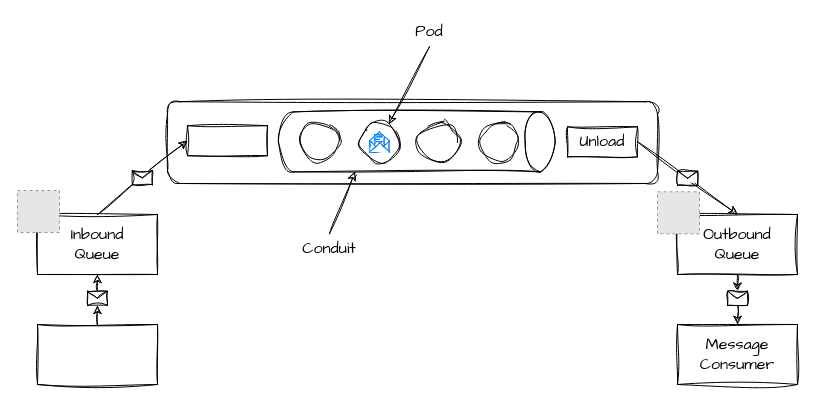
This 815x403 diagram has some shape labels left out. Grey dashed boxes stand in for pictures. Here are the shapes that lost their labels. From the top down, the box of each, then its label:
(186, 125, 268, 156): Load
(36, 324, 158, 384): Messge Producer
